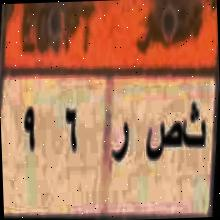6: (64, 105, 78, 155)
9: (20, 105, 37, 152)
raa: (109, 118, 130, 171)
saad: (144, 113, 182, 172)
thaa: (180, 96, 206, 160)
